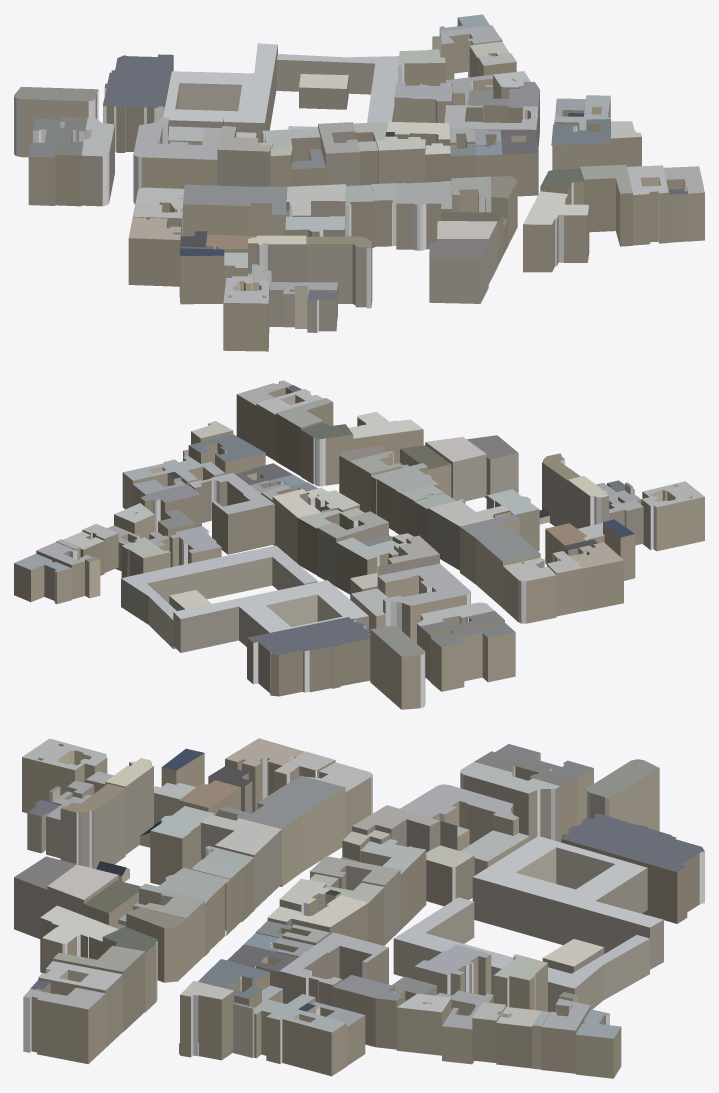
3 views of the same model, one above another, from view 1: azimuth 30°, elevation 25°; view 2: azimuth 150°, elevation 25°; view 3: azimuth 270°, elevation 25° (orthographic). The views are drawn at different scales.
Parts seen in each view (by area): view 1: tuile; view 2: tuile; view 3: tuile.
Part boxes in pixels (x1=…): tuile: x1=14, y1=14, x2=704, y2=351; tuile: x1=14, y1=380, x2=704, y2=709; tuile: x1=14, y1=738, x2=704, y2=1078.
Bounding box in the file's own units: 275 × 34.3 × 280.
